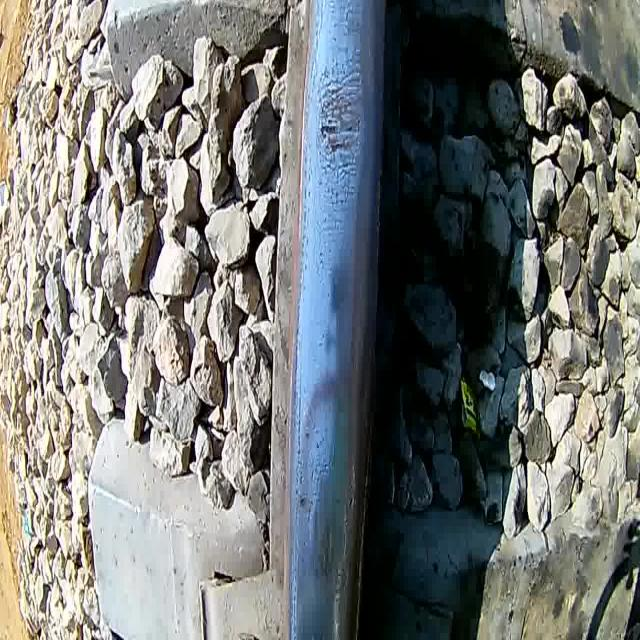Spallings: (298, 488, 313, 517)
Squats: (315, 40, 369, 206), (310, 510, 343, 594)
